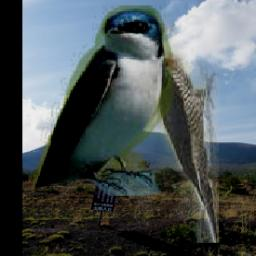Swallow: (34, 5, 173, 196)
Woodpecker: (128, 18, 218, 243)
